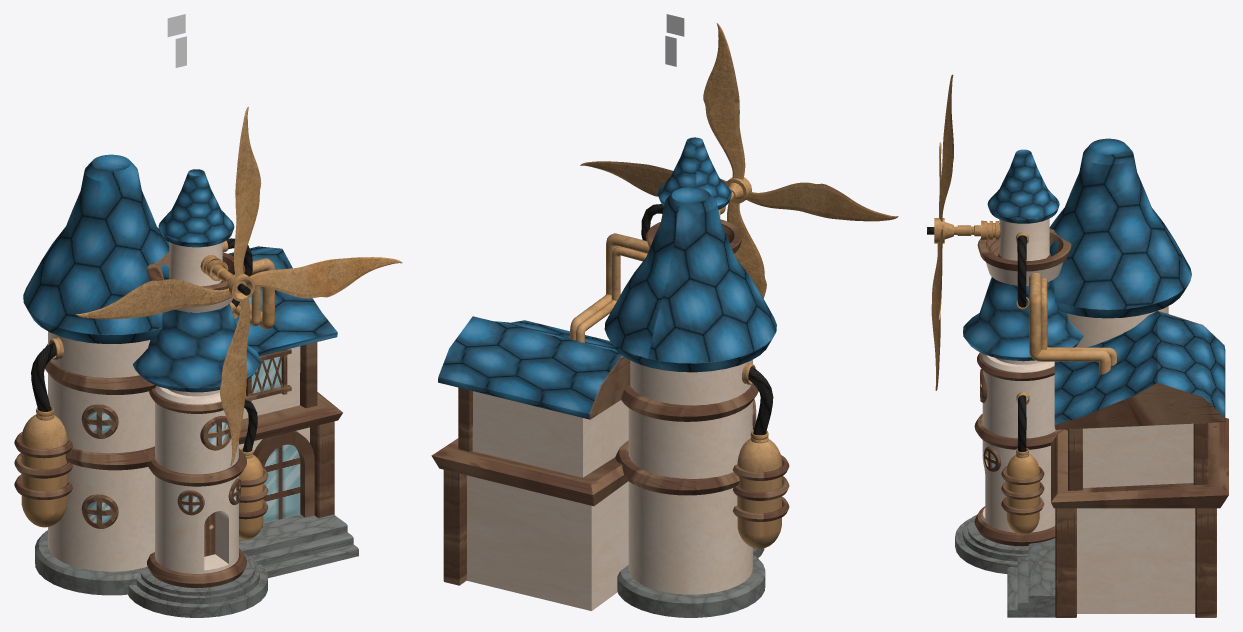
The model's file is Molino_Texturizado_3Tiers.fbx.
3 views of the same model, side by side, from view 1: azimuth 30°, elevation 25°; view 2: azimuth 150°, elevation 25°; view 3: azimuth 270°, elevation 25° (orthographic). The views are drawn at different scales.
Visible parts, largest first — view 1: Torus.018, Circle.004, Cylinder.005, Cylinder.007, Cone, Cone.001, Cylinder.006, Torus.011, Torus.001, Sphere.001, BézierCurve.005, Circle.001 (+2 smaller); view 2: Torus.018, Circle.004, Cylinder.007, Cone.001, BézierCurve.005, BézierCurve.004; view 3: Circle.004, Torus.018, Cylinder.005, Cone, Cylinder.006, Cylinder.007, Cone.001, BézierCurve.005, Sphere.001, Torus.011, Torus.001, BézierCurve.004 (+3 smaller).
Part boxes in pixels (x1,y1,x2,y2): Torus.018: (14, 154, 169, 595); Circle.004: (228, 246, 358, 578); Cylinder.005: (128, 386, 267, 617); Cylinder.007: (76, 106, 402, 465); Cone: (133, 304, 260, 391); Cone.001: (158, 169, 234, 247); Cylinder.006: (146, 242, 245, 312); Torus.011: (147, 548, 246, 587); Torus.001: (147, 448, 246, 486); Sphere.001: (239, 455, 263, 539); BézierCurve.005: (233, 258, 274, 329); Circle.001: (200, 415, 231, 450); Torus.018: (604, 187, 789, 617); Circle.004: (431, 316, 630, 610); Cylinder.007: (580, 23, 898, 298); Cone.001: (657, 137, 731, 209); BézierCurve.005: (570, 233, 649, 340); BézierCurve.004: (576, 246, 647, 342); Circle.004: (1007, 310, 1228, 617); Torus.018: (1049, 138, 1191, 430); Cylinder.005: (955, 354, 1056, 573); Cone: (963, 277, 1083, 361); Cylinder.006: (977, 218, 1071, 285); Cylinder.007: (927, 74, 1000, 390); Cone.001: (987, 149, 1059, 223); BézierCurve.005: (1029, 273, 1110, 374); Sphere.001: (1006, 454, 1039, 535); Torus.011: (974, 506, 1055, 546); Torus.001: (974, 414, 1064, 449); BézierCurve.004: (1041, 278, 1116, 366).
Size of the model in its own units: 361 by 589 by 305.
